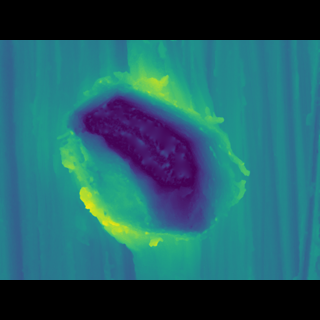Loch: (49, 89, 254, 231)
